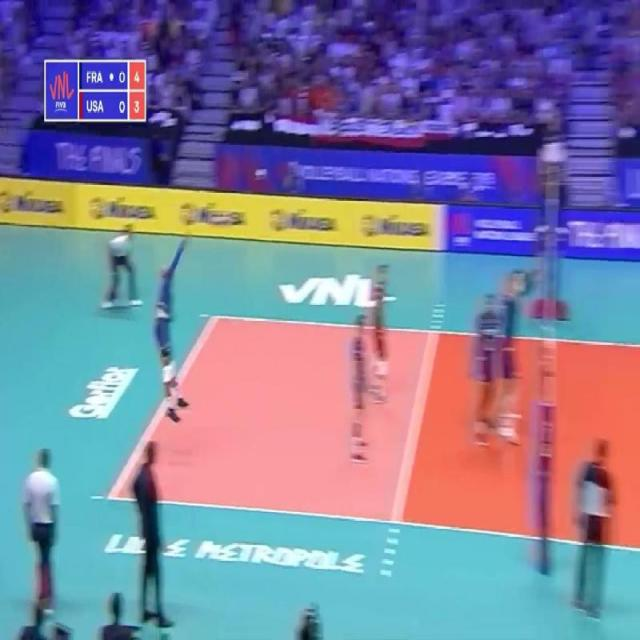volleyball: (254, 168, 261, 181)
